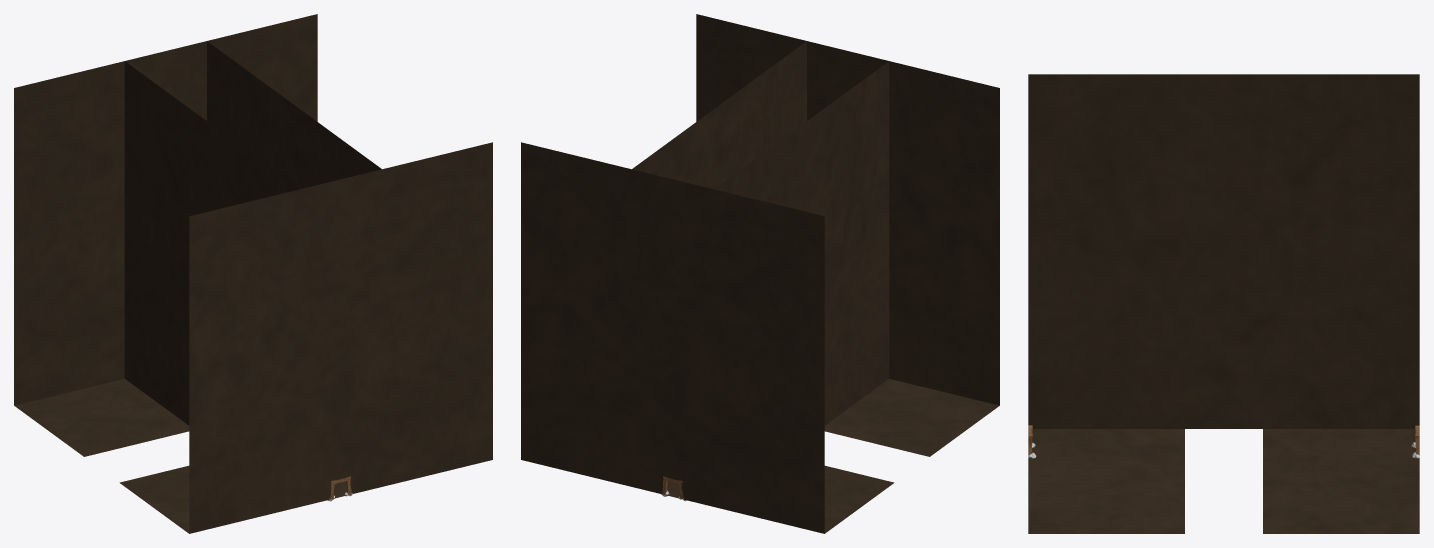
File: Room001.fbx
3 views of the same model, side by side, from view 1: azimuth 30°, elevation 25°; view 2: azimuth 150°, elevation 25°; view 3: azimuth 270°, elevation 25° (orthographic). The views are drawn at different scales.
Visible parts, largest first — view 1: 4ParedN, 2ParedS, 3ParedSinPuertaE, 1ParedSinPuertaW, 1Suelo.002, 4Pared.001N, 4Pared.002N, 2Pared.001S; view 2: 2ParedS, 4ParedN, 3ParedSinPuertaE, 1ParedSinPuertaW, 1Suelo.002, 2Pared.001S, 2Pared.002S, 4Pared.001N; view 3: 3ParedSinPuertaE, 1Suelo.002.
Part boxes in pixels (x1=…): 4ParedN: x1=189, y1=142, x2=492, y2=517; 2ParedS: x1=14, y1=14, x2=317, y2=389; 3ParedSinPuertaE: x1=124, y1=61, x2=299, y2=425; 1ParedSinPuertaW: x1=207, y1=41, x2=381, y2=189; 1Suelo.002: x1=14, y1=378, x2=346, y2=533; 4Pared.001N: x1=189, y1=483, x2=331, y2=533; 4Pared.002N: x1=350, y1=444, x2=492, y2=494; 2Pared.001S: x1=14, y1=363, x2=124, y2=405; 2ParedS: x1=521, y1=142, x2=824, y2=517; 4ParedN: x1=696, y1=14, x2=999, y2=389; 3ParedSinPuertaE: x1=714, y1=61, x2=889, y2=425; 1ParedSinPuertaW: x1=632, y1=41, x2=806, y2=189; 1Suelo.002: x1=666, y1=378, x2=999, y2=533; 2Pared.001S: x1=681, y1=483, x2=824, y2=533; 2Pared.002S: x1=521, y1=444, x2=663, y2=494; 4Pared.001N: x1=889, y1=363, x2=999, y2=405; 3ParedSinPuertaE: x1=1028, y1=74, x2=1419, y2=428; 1Suelo.002: x1=1028, y1=429, x2=1419, y2=533.
Bounding box in the file's own units: 9600 × 9693 × 9608.
